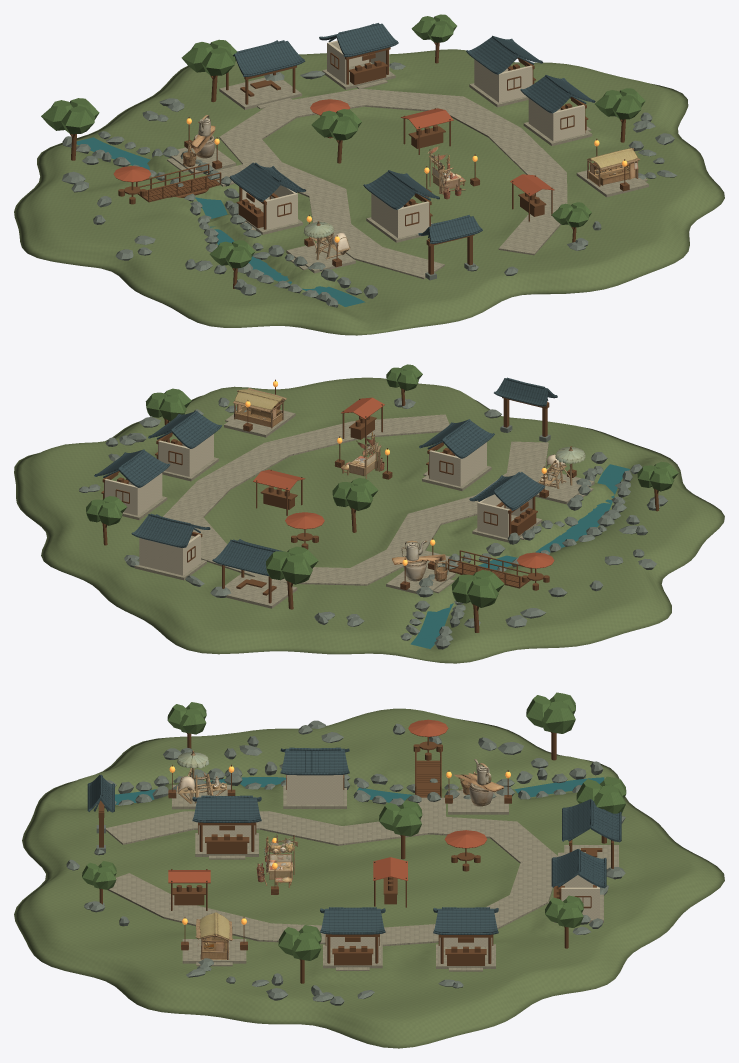
Rendered from morning.glb.
3 renders of one model, top to bottom at view 1: azimuth 30°, elevation 25°; view 2: azimuth 150°, elevation 25°; view 3: azimuth 270°, elevation 25°, orthographic. The views are drawn at different scales.
Visible parts, largest first — view 1: Environment_市集 · 苔土, Environment_市集 · 米灰石板, Environment_市集 · 溪岸山石, Environment_市集 · 青灰瓦, Environment_市集 · 旧榆木, Environment_市集 · 灰绿树叶, Environment_市集 · 暖灰粉墙, Environment_市集 · 青灰瓦.001, Environment_市集 · 溪水青, Environment_市集 · 赭色麻布, tripo_node_0167f85c-0e29-4ad0-ad44-448baf8e2455, tripo_node_14dd595f-16e5-4347-a4e8-2103297854fa (+2 smaller); view 2: Environment_市集 · 苔土, Environment_市集 · 米灰石板, Environment_市集 · 溪岸山石, Environment_市集 · 青灰瓦, Environment_市集 · 灰绿树叶, Environment_市集 · 暖灰粉墙, Environment_市集 · 旧榆木, Environment_市集 · 青灰瓦.001, Environment_市集 · 溪水青, Environment_市集 · 赭色麻布, tripo_node_0167f85c-0e29-4ad0-ad44-448baf8e2455, tripo_node_76296d79-47d6-4e38-af5f-fa42a0aad469 (+2 smaller); view 3: Environment_市集 · 苔土, Environment_市集 · 米灰石板, Environment_市集 · 青灰瓦, Environment_市集 · 旧榆木, Environment_市集 · 溪岸山石, Environment_市集 · 灰绿树叶, Environment_市集 · 暖灰粉墙, Environment_市集 · 青灰瓦.001, Environment_市集 · 赭色麻布, Environment_市集 · 溪水青, tripo_node_0167f85c-0e29-4ad0-ad44-448baf8e2455, tripo_node_547f38e0-e948-485b-9553-4798154ae945 (+2 smaller).
Boxes of the visible parts, x1,y1,x2,y2 form: Environment_市集 · 苔土: (14,49,724,335); Environment_市集 · 米灰石板: (167,62,648,279); Environment_市集 · 溪岸山石: (62,62,676,307); Environment_市集 · 青灰瓦: (230,23,594,242); Environment_市集 · 旧榆木: (70,42,629,288); Environment_市集 · 灰绿树叶: (41,14,645,268); Environment_市集 · 暖灰粉墙: (242,40,584,238); Environment_市集 · 青灰瓦.001: (229,23,595,243); Environment_市集 · 溪水青: (76,137,365,306); Environment_市集 · 赭色麻布: (113,99,554,195); tripo_node_0167f85c-0e29-4ad0-ad44-448baf8e2455: (587,147,640,186); tripo_node_14dd595f-16e5-4347-a4e8-2103297854fa: (304,221,350,259); Environment_市集 · 苔土: (14,377,724,663); Environment_市集 · 米灰石板: (122,409,594,608); Environment_市集 · 溪岸山石: (79,397,667,649); Environment_市集 · 青灰瓦: (95,378,556,575); Environment_市集 · 灰绿树叶: (86,364,678,607); Environment_市集 · 暖灰粉墙: (104,434,532,575); Environment_市集 · 旧榆木: (101,379,658,632); Environment_市集 · 青灰瓦.001: (94,377,557,575); Environment_市集 · 溪水青: (410,464,629,648); Environment_市集 · 赭色麻布: (253,397,554,568); tripo_node_0167f85c-0e29-4ad0-ad44-448baf8e2455: (233,388,286,428); tripo_node_76296d79-47d6-4e38-af5f-fa42a0aad469: (392,540,448,581); Environment_市集 · 苔土: (14,708,724,1048); Environment_市集 · 米灰石板: (106,785,618,971); Environment_市集 · 青灰瓦: (88,748,620,932); Environment_市集 · 旧榆木: (98,732,613,983); Environment_市集 · 溪岸山石: (66,720,625,1005); Environment_市集 · 灰绿树叶: (82,692,626,960); Environment_市集 · 暖灰粉墙: (198,775,599,963); Environment_市集 · 青灰瓦.001: (87,747,621,934); Environment_市集 · 赭色麻布: (168,719,487,883); Environment_市集 · 溪水青: (115,777,604,804); tripo_node_0167f85c-0e29-4ad0-ad44-448baf8e2455: (195,912,233,959); tripo_node_547f38e0-e948-485b-9553-4798154ae945: (256,834,298,887).
Bounding box in the file's own units: 63.87 × 6.73 × 56.54.
Materials: 14 (14 with a texture image).
